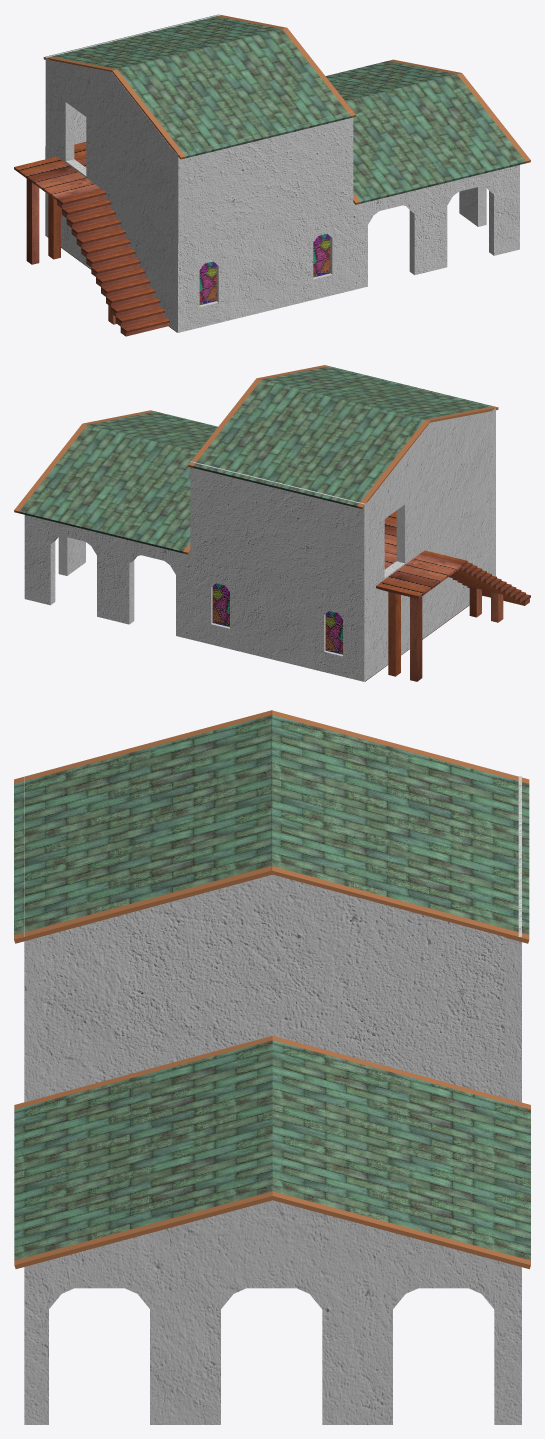
The model's file is Local_Fazenda.fbx.
3 renders of one model, top to bottom at view 1: azimuth 30°, elevation 25°; view 2: azimuth 150°, elevation 25°; view 3: azimuth 270°, elevation 25°, orthographic. The views are drawn at different scales.
Visible parts, largest first — view 1: Parede.002, Teto_Calhas.003, Teto_Calhas.001, Parede.005, Parede.004, Escada, Teto_Calhas.002, Parede.003, Teto_Calhas, Vitral, Parede.006, Parede.008; view 2: Parede.001, Teto_Calhas.002, Parede.006, Teto_Calhas, Parede.004, Parede.003, Escada, Teto_Calhas.003, Teto_Calhas.001, Vitral.001, Parede.008, Piso (+2 smaller); view 3: Parede.007, Parede.008, Teto_Calhas.003, Teto_Calhas, Teto_Calhas.001, Teto_Calhas.002, Parede.006, Parede.005, Parede.002, Parede.001.
Boxes of the visible parts, box(x1,y1,x2,y2) form: Parede.002: box(173, 165, 519, 332); Teto_Calhas.003: box(112, 28, 355, 159); Teto_Calhas.001: box(345, 73, 530, 204); Parede.005: box(173, 111, 353, 243); Parede.004: box(50, 60, 173, 239); Escada: box(14, 156, 169, 336); Teto_Calhas.002: box(43, 14, 286, 72); Parede.003: box(50, 150, 173, 329); Teto_Calhas: box(325, 59, 461, 101); Vitral: box(199, 233, 330, 304); Parede.006: box(45, 14, 220, 149); Parede.008: box(459, 186, 486, 226); Parede.001: box(24, 515, 368, 681); Teto_Calhas.002: box(188, 378, 430, 508); Parede.006: box(190, 461, 368, 592); Teto_Calhas: box(14, 423, 197, 554); Parede.004: box(369, 411, 491, 589); Parede.003: box(369, 500, 491, 678); Escada: box(376, 550, 530, 681); Teto_Calhas.003: box(256, 365, 498, 422); Teto_Calhas.001: box(83, 410, 217, 451); Vitral.001: box(212, 583, 342, 654); Parede.008: box(58, 536, 85, 575); Piso: box(384, 511, 396, 569); Parede.007: box(41, 875, 504, 1097); Parede.008: box(41, 1200, 504, 1424); Teto_Calhas.003: box(14, 710, 272, 943); Teto_Calhas: box(271, 1036, 530, 1269); Teto_Calhas.001: box(14, 1036, 273, 1268); Teto_Calhas.002: box(270, 710, 529, 943); Parede.006: box(504, 776, 521, 1102); Parede.005: box(24, 776, 41, 1102); Parede.002: box(24, 1262, 41, 1424); Parede.001: box(504, 1263, 521, 1424).
Bounding box in the file's own units: 920 × 488 × 558.
